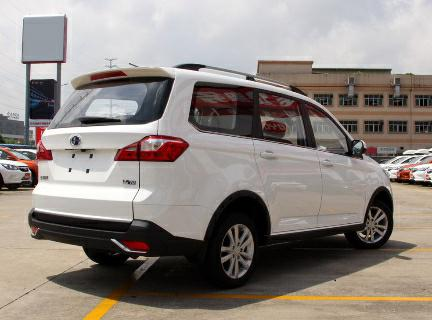昌河-M70: (23, 60, 406, 289)
